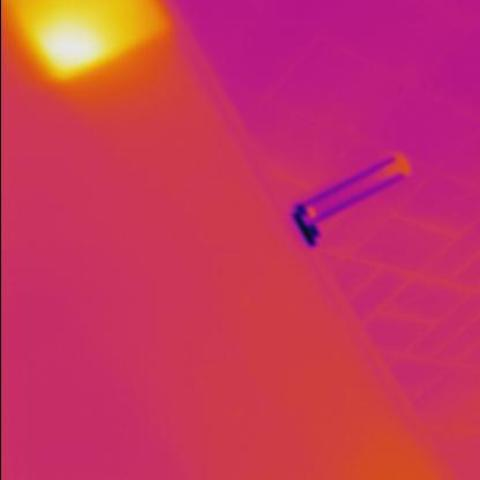fault: (28, 21, 104, 71)
